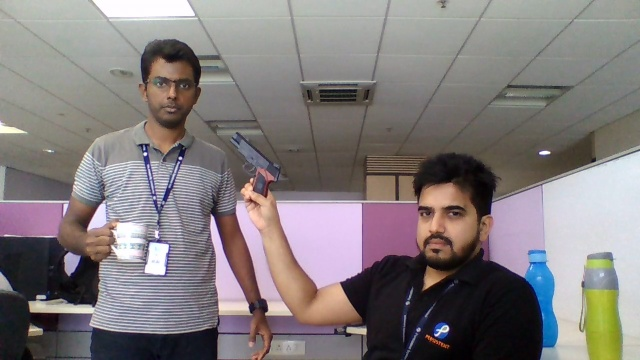gun: (229, 130, 281, 184)
